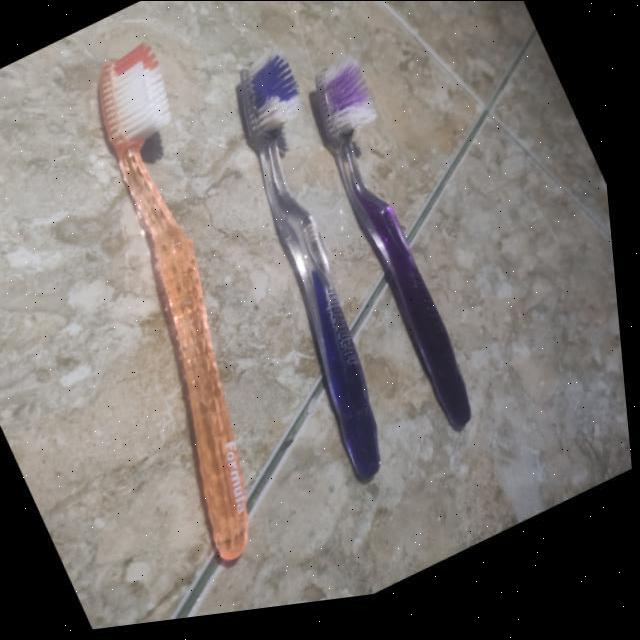toothbrush: (0, 9, 392, 620), (179, 29, 485, 541), (286, 28, 546, 482)
